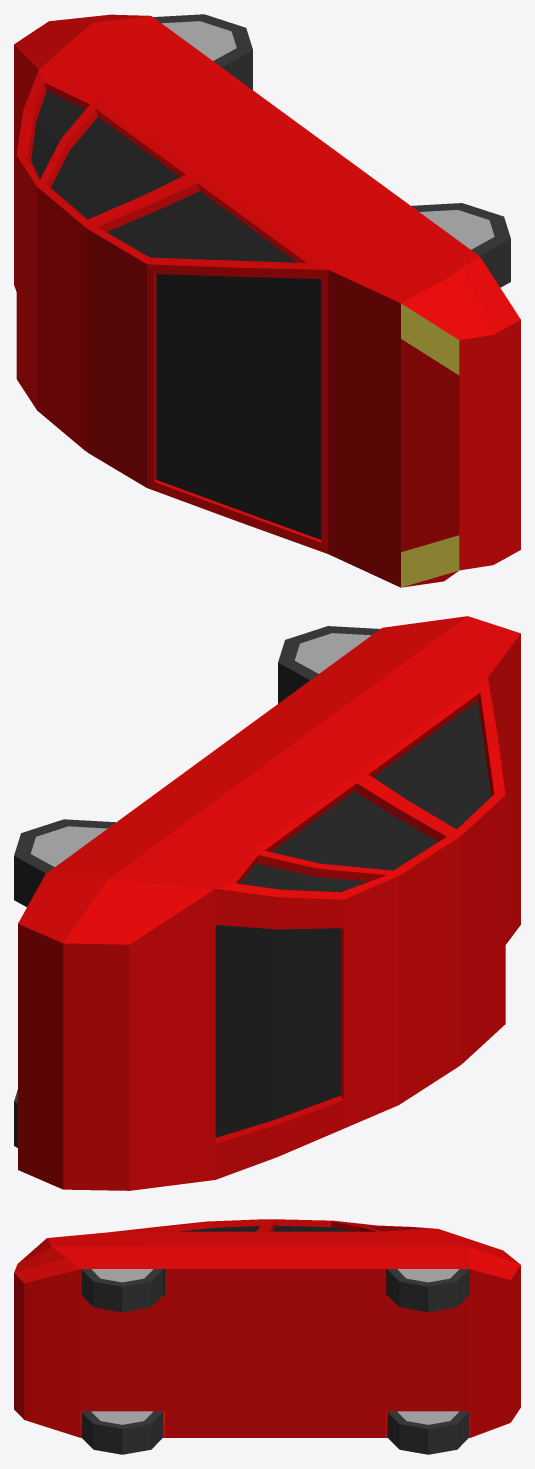
The model's file is Car.fbx.
3 views of the same model, one above another, from view 1: azimuth 30°, elevation 25°; view 2: azimuth 150°, elevation 25°; view 3: azimuth 270°, elevation 25° (orthographic). The views are drawn at different scales.
Parts seen in each view (by area): view 1: Car; view 2: Car; view 3: Car.
Part boxes in pixels (x1,y1,x2,y2): Car: (14, 14, 520, 587); Car: (14, 616, 520, 1190); Car: (14, 1219, 520, 1454).
Size of the model in its own units: 469 by 187 by 183.
